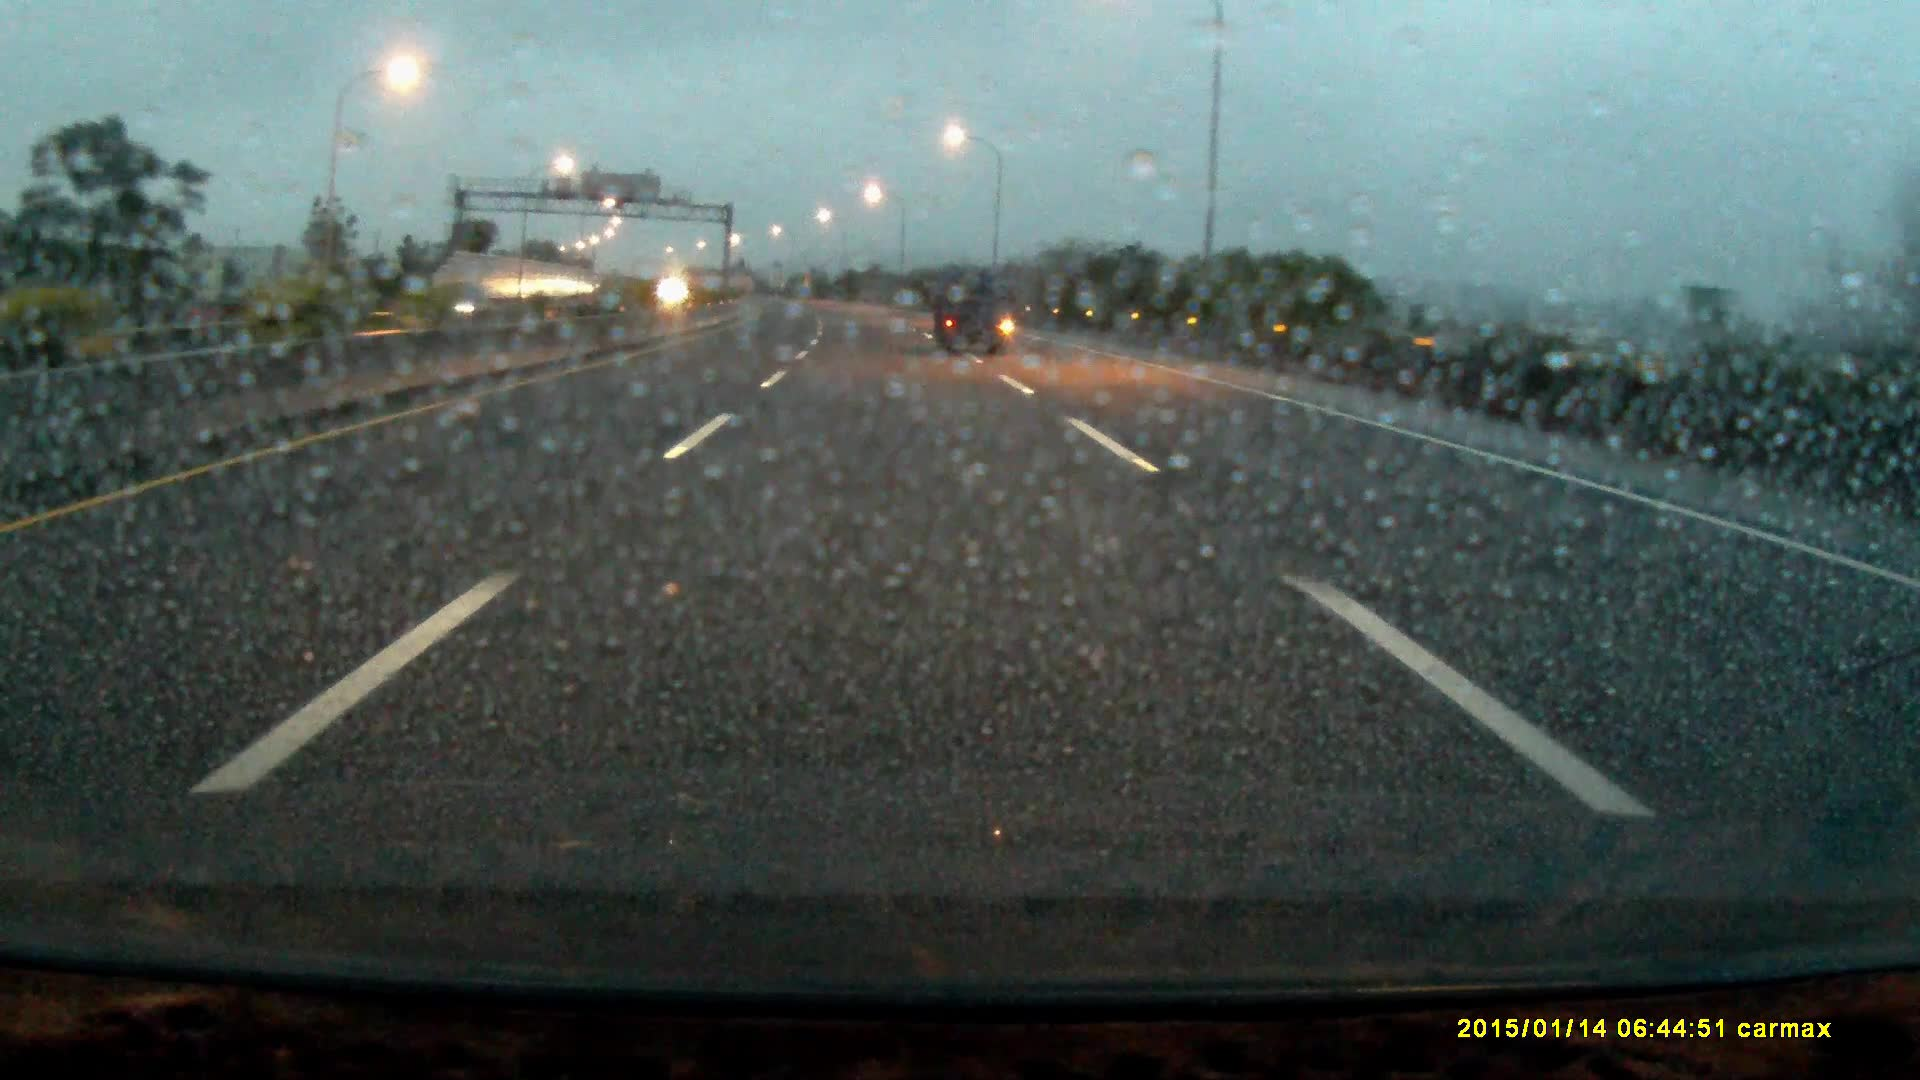vehicle: (932, 272, 1015, 357)
